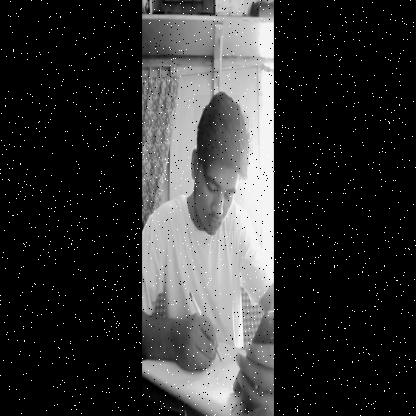Distracted: (194, 95, 240, 231)
